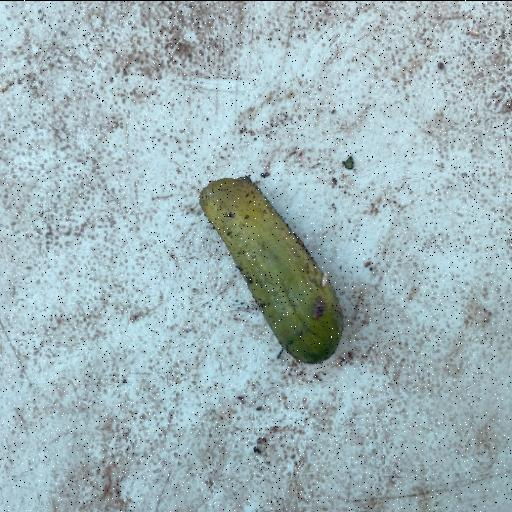Waste: (196, 174, 346, 366)
